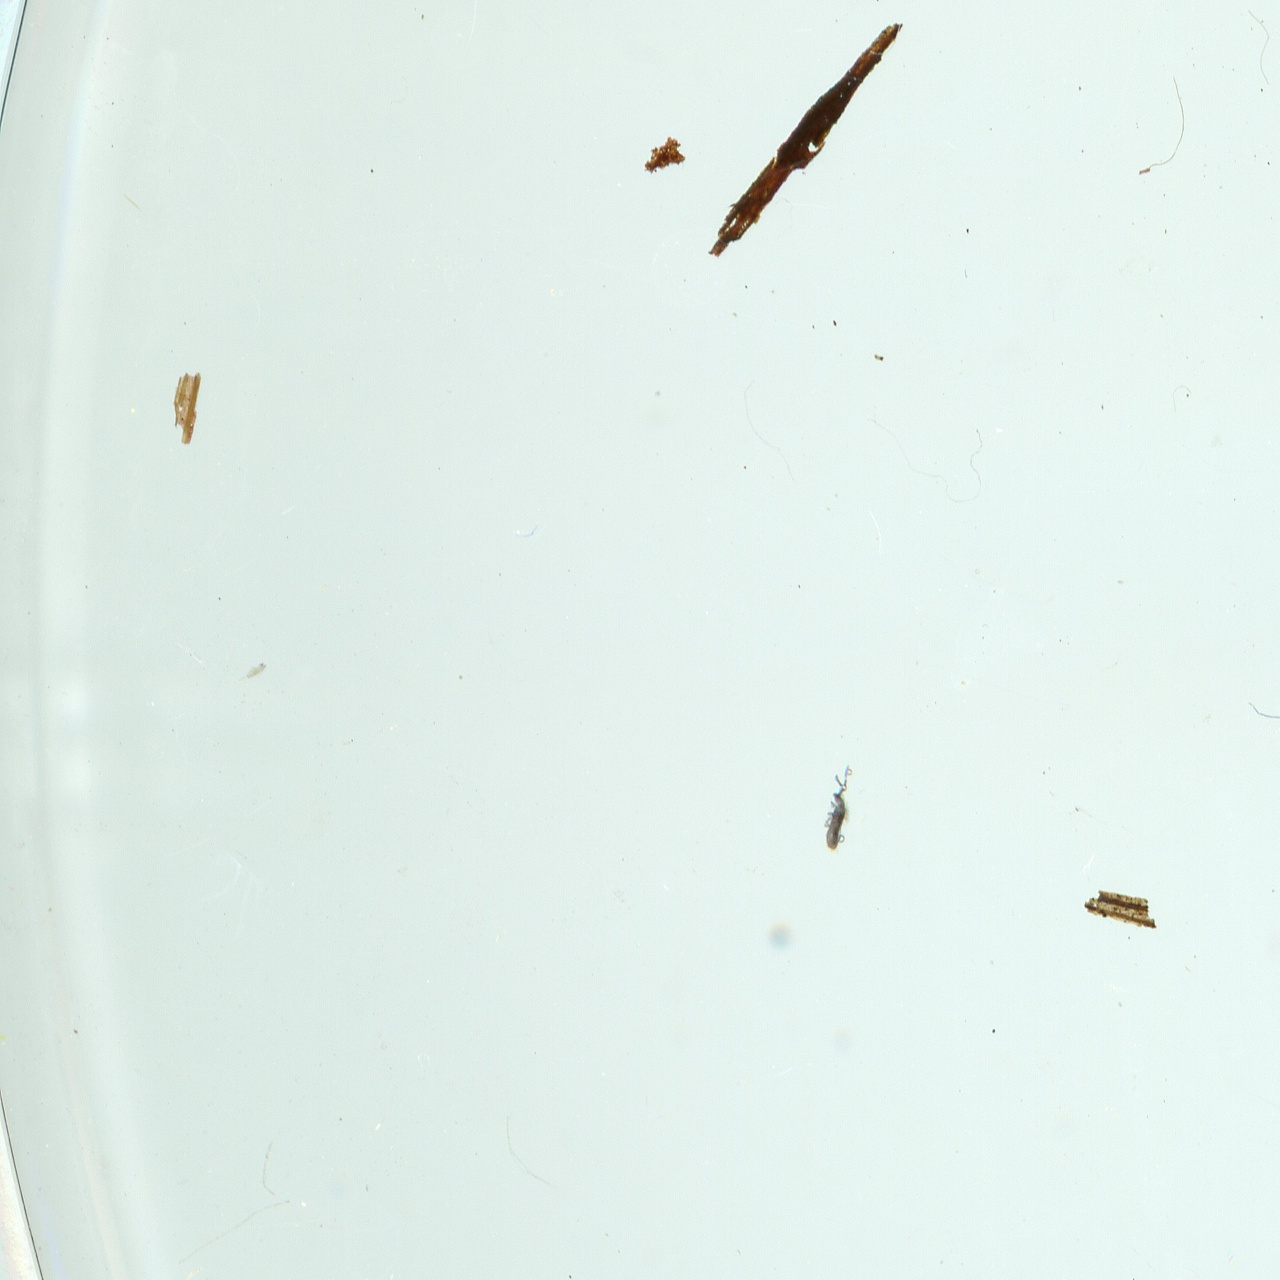arthropod: (824, 760, 856, 860)
